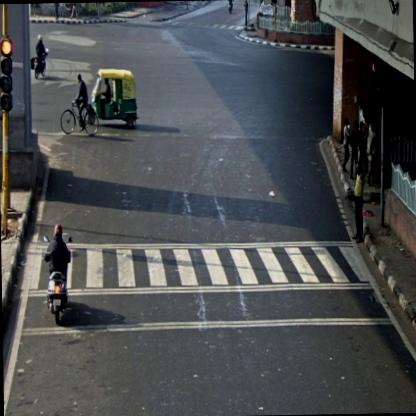motorcycle: (42, 221, 74, 327), (59, 73, 98, 139), (33, 34, 49, 78), (227, 0, 234, 15)
